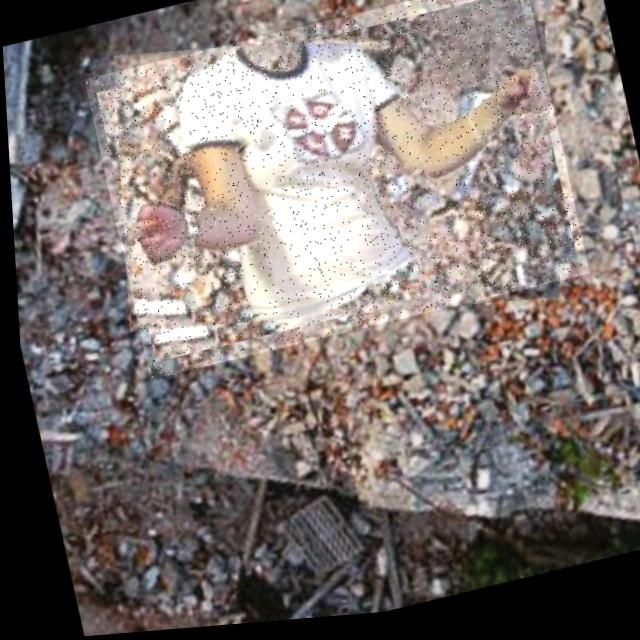Person in Rubble: (80, 0, 589, 384)
